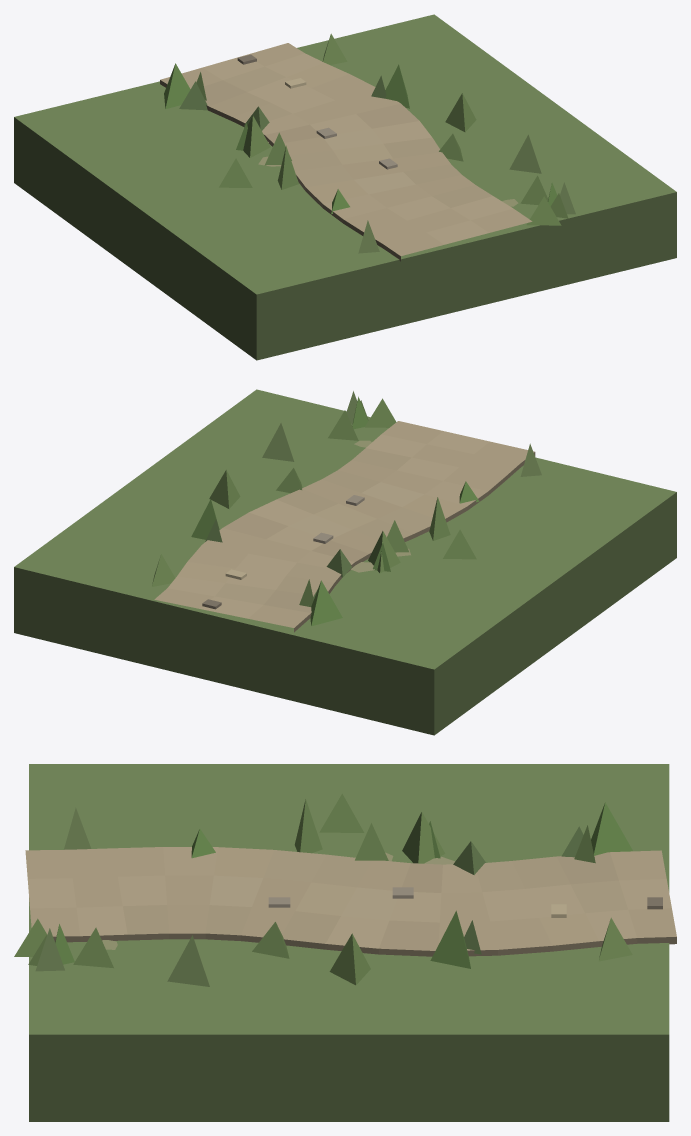
The model's file is t_footpath_5.glb.
3 views of the same model, one above another, from view 1: azimuth 30°, elevation 25°; view 2: azimuth 150°, elevation 25°; view 3: azimuth 270°, elevation 25° (orthographic). The views are drawn at different scales.
Visible parts, largest first — view 1: t_footpath_5; view 2: t_footpath_5; view 3: t_footpath_5.
Boxes of the visible parts, x1,y1,x2,y2 form: t_footpath_5: [14, 14, 676, 360]; t_footpath_5: [14, 389, 676, 735]; t_footpath_5: [14, 764, 676, 1121].
Size of the model in its own units: 2 by 0.4798 by 2.07.
